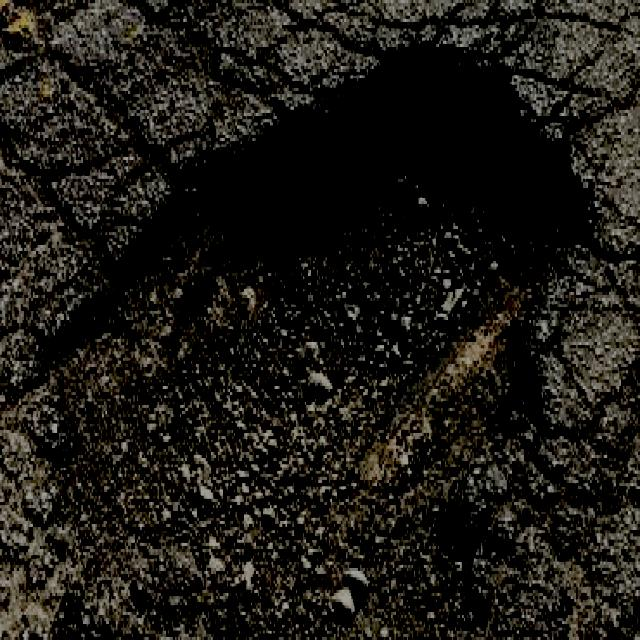Pothole: (13, 29, 615, 640)
